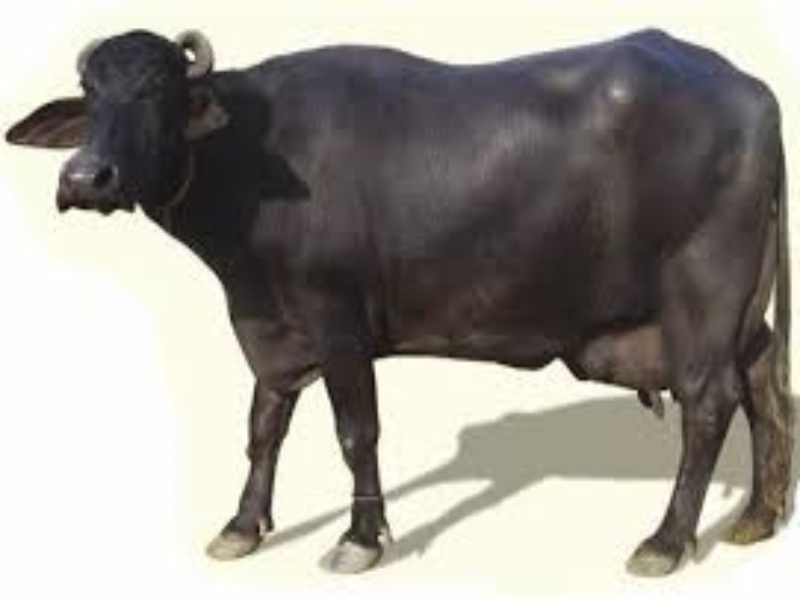buffalo: (9, 28, 794, 572)
